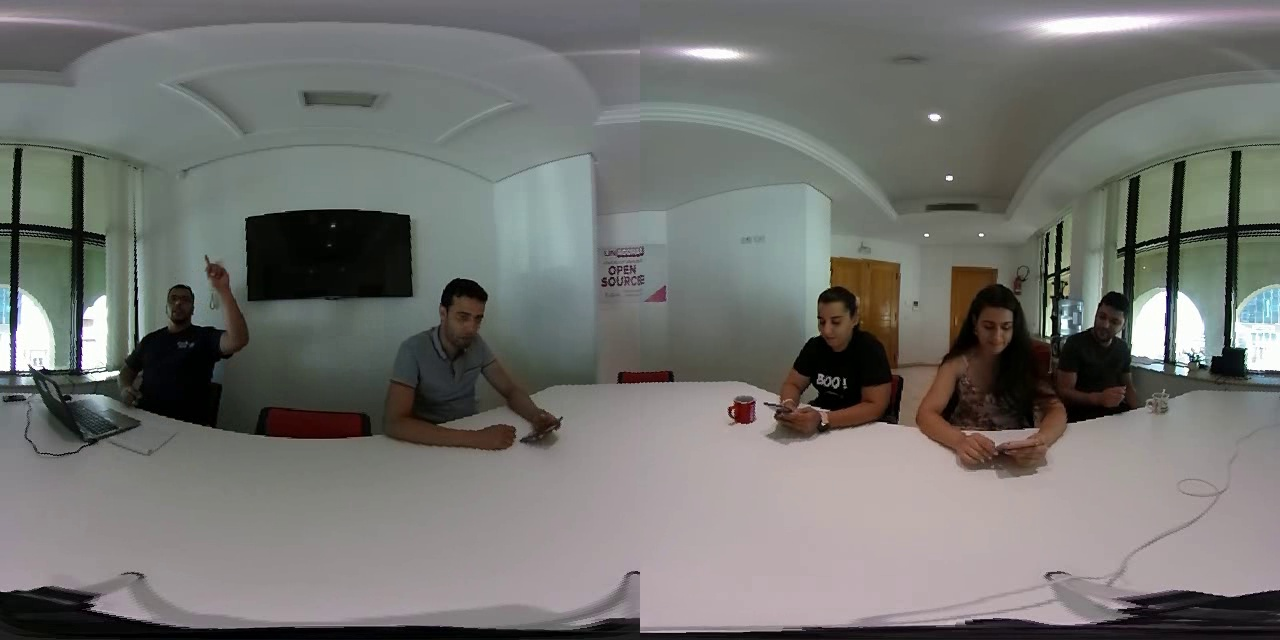hand_up: (199, 247, 251, 341)
person: (373, 269, 518, 448), (109, 252, 255, 425), (917, 271, 1047, 456), (773, 268, 899, 442), (1052, 285, 1138, 415)
